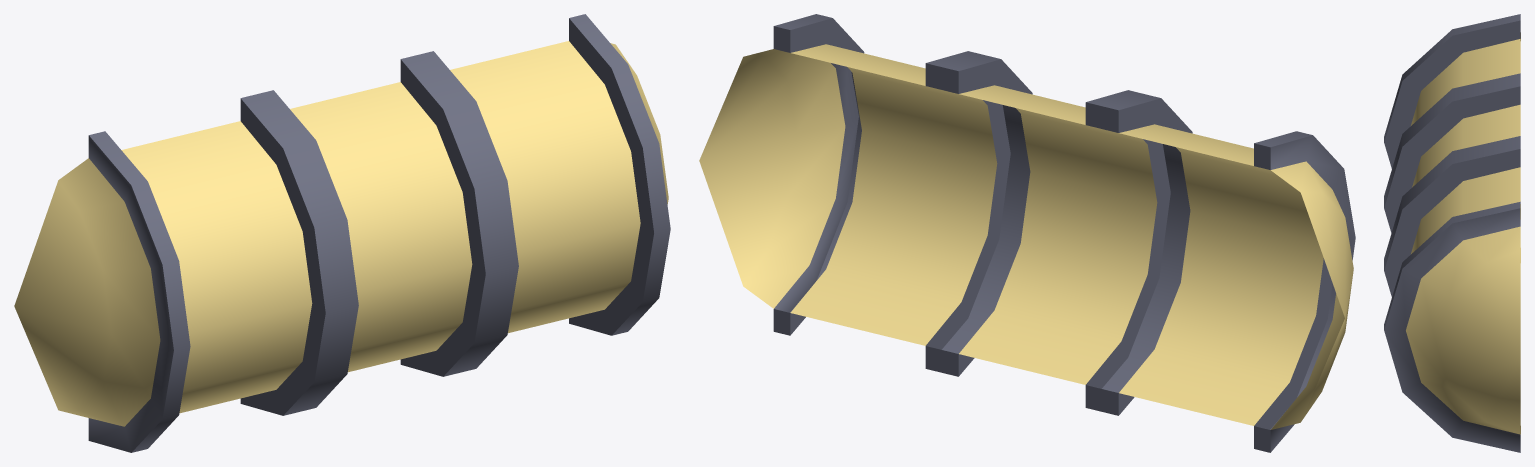
Rendered from lampeArea.dae.
3 renders of one model, left to right at view 1: azimuth 30°, elevation 25°; view 2: azimuth 150°, elevation 25°; view 3: azimuth 270°, elevation 25°, orthographic. The views are drawn at different scales.
Visible parts, largest first — view 1: lampeArea; view 2: lampeArea; view 3: lampeArea.
Boxes of the visible parts, bbox=[...] form: lampeArea: bbox=[14, 14, 670, 452]; lampeArea: bbox=[699, 14, 1355, 452]; lampeArea: bbox=[1384, 14, 1520, 452].
Bounding box in the file's own units: 12.61 × 5.7 × 2.89.
